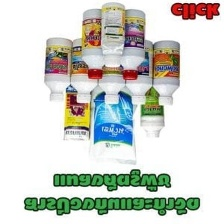insecticide: (85, 79, 142, 167), (59, 74, 99, 141), (113, 7, 147, 81), (80, 7, 112, 81), (122, 38, 155, 106), (68, 36, 101, 104), (41, 36, 74, 104), (150, 39, 182, 107), (96, 37, 127, 105), (98, 0, 126, 68), (139, 81, 166, 140)
